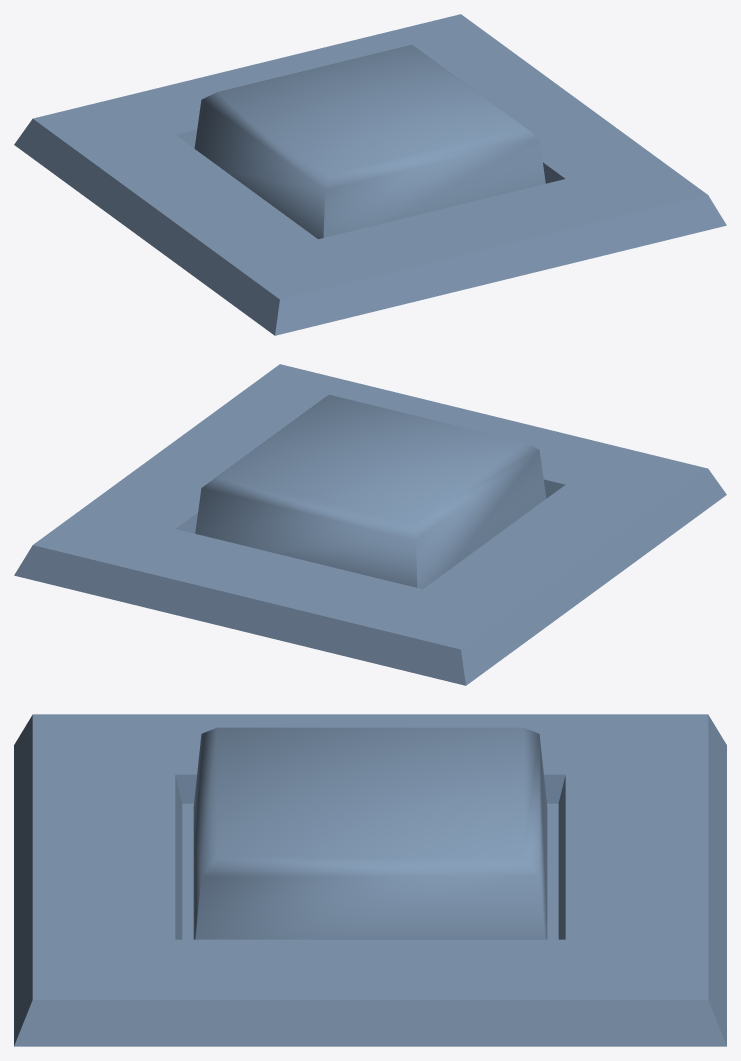
Rendered from rcSwitchAssy.FBX.
3 renders of one model, top to bottom at view 1: azimuth 30°, elevation 25°; view 2: azimuth 150°, elevation 25°; view 3: azimuth 270°, elevation 25°, orthographic. The views are drawn at different scales.
Parts seen in each view (by area): view 1: buttonSquareBase, buttonSquareButton; view 2: buttonSquareBase, buttonSquareButton; view 3: buttonSquareBase, buttonSquareButton.
Boxes of the visible parts, x1,y1,x2,y2 form: buttonSquareBase: (14, 14, 726, 335); buttonSquareButton: (194, 44, 545, 239); buttonSquareBase: (14, 364, 726, 685); buttonSquareButton: (195, 394, 546, 589); buttonSquareBase: (14, 714, 726, 1046); buttonSquareButton: (193, 727, 547, 939).
Bounding box in the file's own units: 0.5 × 0.08 × 0.5.
